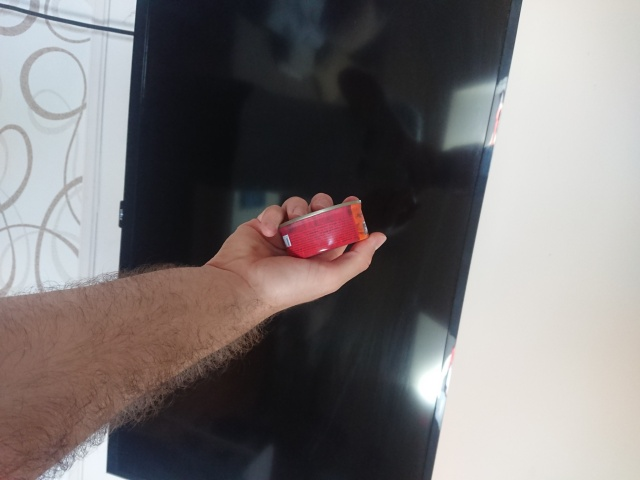Gavrilovic Pork Liver Pate 100g: (275, 196, 371, 261)
